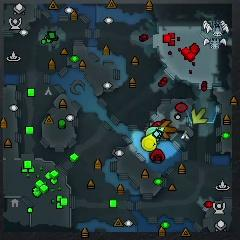p2: (145, 126, 165, 137)
p4: (141, 133, 157, 152)
x2: (192, 108, 207, 125)
x5: (160, 120, 177, 139)
